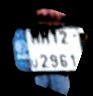character: (59, 53, 68, 68), (49, 54, 58, 68)
